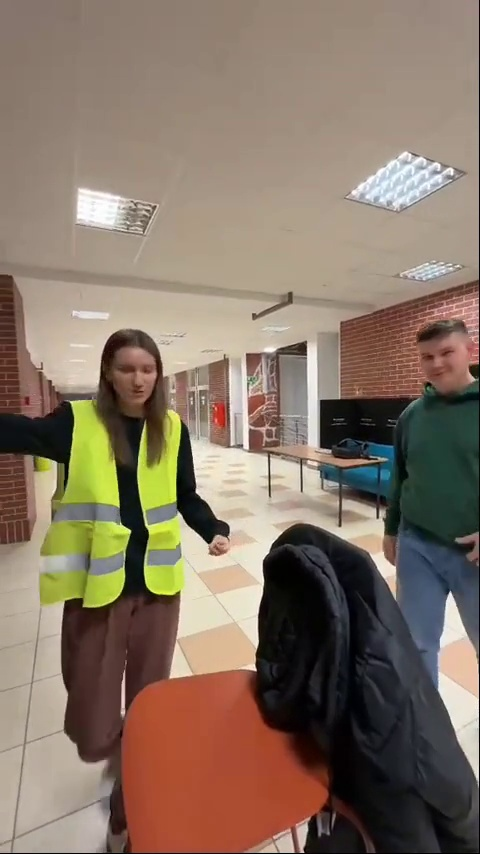no vest: (359, 314, 480, 704)
vest: (47, 323, 208, 766)
